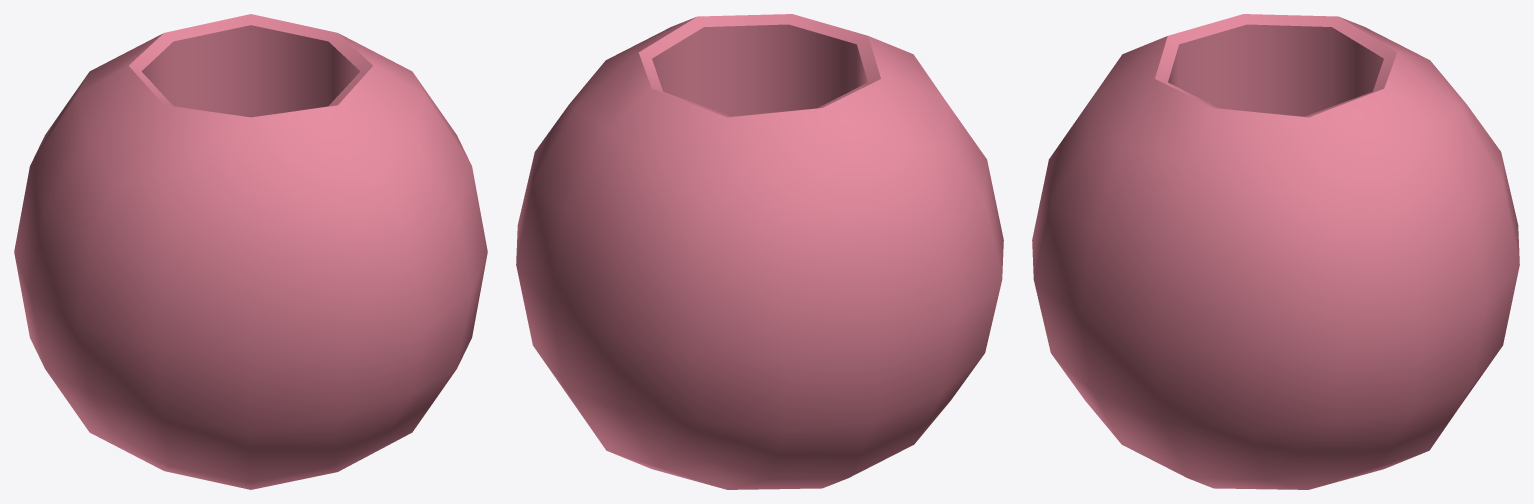
The model's file is Toy_Ball_6.glb.
3 renders of one model, left to right at view 1: azimuth 30°, elevation 25°; view 2: azimuth 150°, elevation 25°; view 3: azimuth 270°, elevation 25°, orthographic. The views are drawn at different scales.
Parts seen in each view (by area): view 1: Toy_Ball_6; view 2: Toy_Ball_6; view 3: Toy_Ball_6.
Part boxes in pixels (x1,y1,x2,y2): Toy_Ball_6: (14, 14, 487, 489); Toy_Ball_6: (516, 14, 1003, 489); Toy_Ball_6: (1032, 14, 1519, 489).
Size of the model in its own units: 0.0595 by 0.0512 by 0.0595.
1 material, 1 textured.
